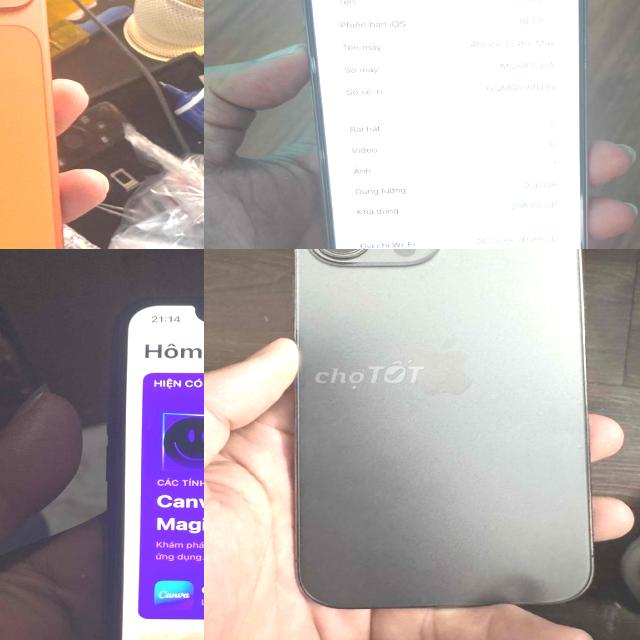gen_12_13: (283, 249, 601, 614)
gen_15: (284, 0, 606, 249)
gen_17: (0, 0, 92, 249)
gen_x_xs: (107, 289, 204, 640)
